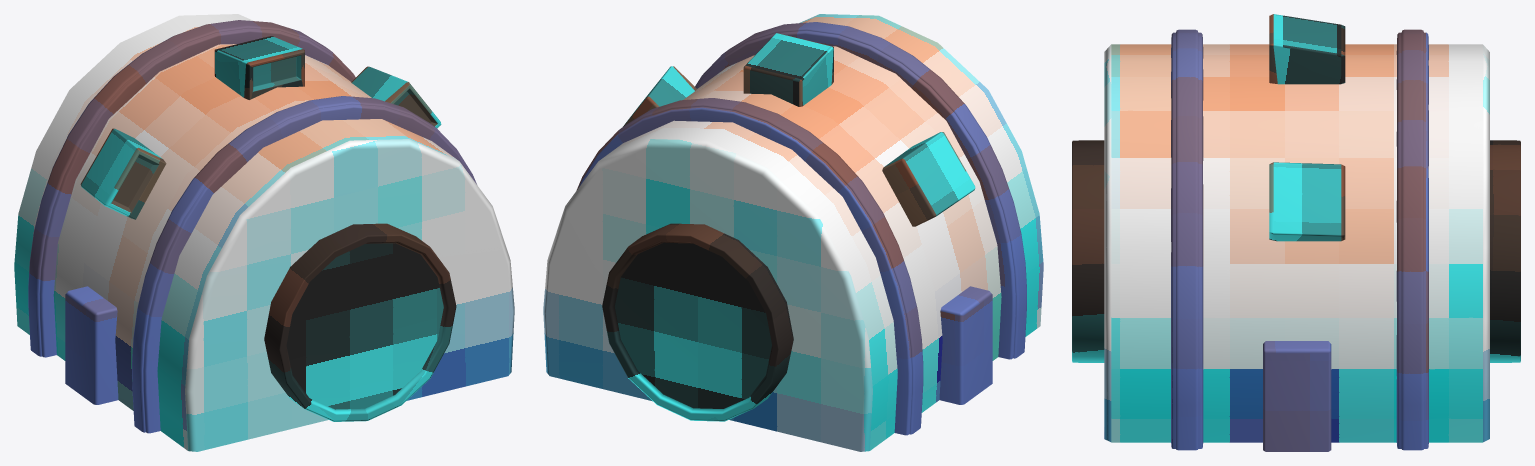
Rendered from mars_waterwell.glb.
The picture shows the model from 3 angles, left to right: view 1: azimuth 30°, elevation 25°; view 2: azimuth 150°, elevation 25°; view 3: azimuth 270°, elevation 25°; orthographic projection. The views are drawn at different scales.
Parts seen in each view (by area): view 1: Decontamination_section; view 2: Decontamination_section; view 3: Decontamination_section.
Boxes of the visible parts, x1,y1,x2,y2 form: Decontamination_section: [14, 14, 514, 451]; Decontamination_section: [543, 14, 1043, 451]; Decontamination_section: [1072, 14, 1520, 451].
Bounding box in the file's own units: 5.64 × 4.46 × 5.53.
Materials: 1 (1 with a texture image).
